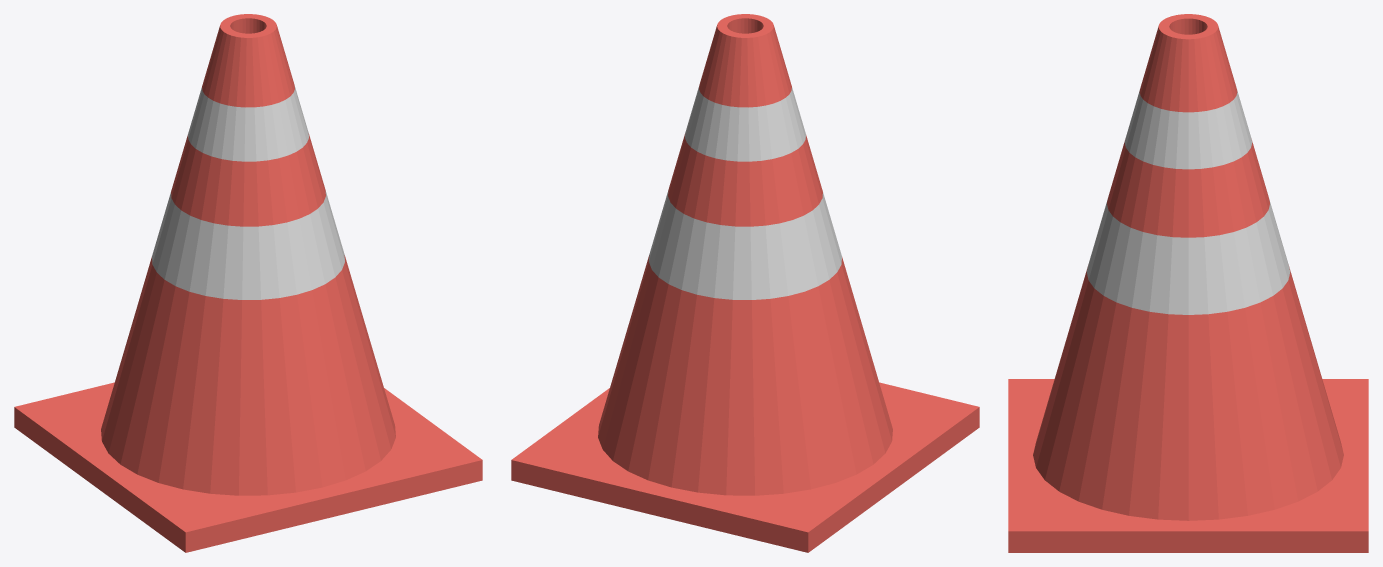
The model's file is obstacle_cone.glb.
The picture shows the model from 3 angles, left to right: view 1: azimuth 30°, elevation 25°; view 2: azimuth 150°, elevation 25°; view 3: azimuth 270°, elevation 25°; orthographic projection. The views are drawn at different scales.
Parts seen in each view (by area): view 1: Cylinder; view 2: Cylinder; view 3: Cylinder.
Boxes of the visible parts, box(x1,y1,x2,y2) form: Cylinder: box(14, 14, 482, 552); Cylinder: box(511, 14, 979, 552); Cylinder: box(1008, 14, 1368, 552).
Size of the model in its own units: 0.9445 by 1.3 by 0.9445.
